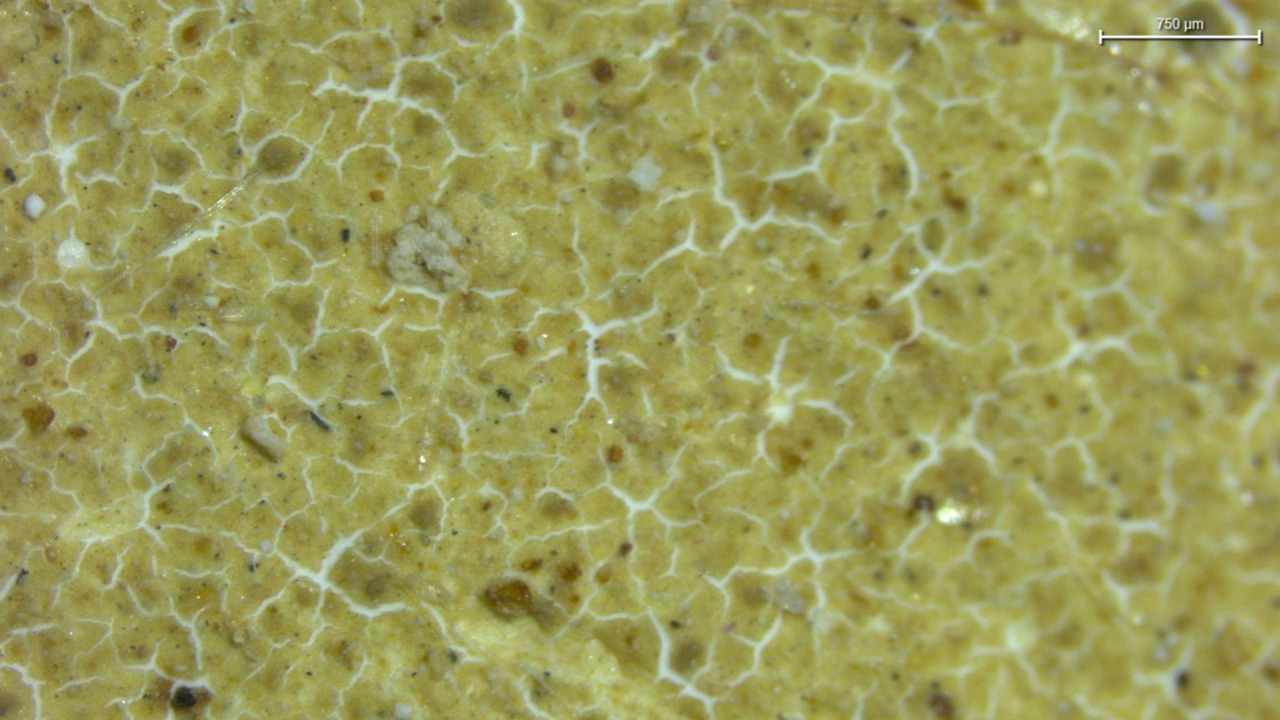microplastic_fragment: (386, 206, 468, 291), (241, 415, 286, 462)
